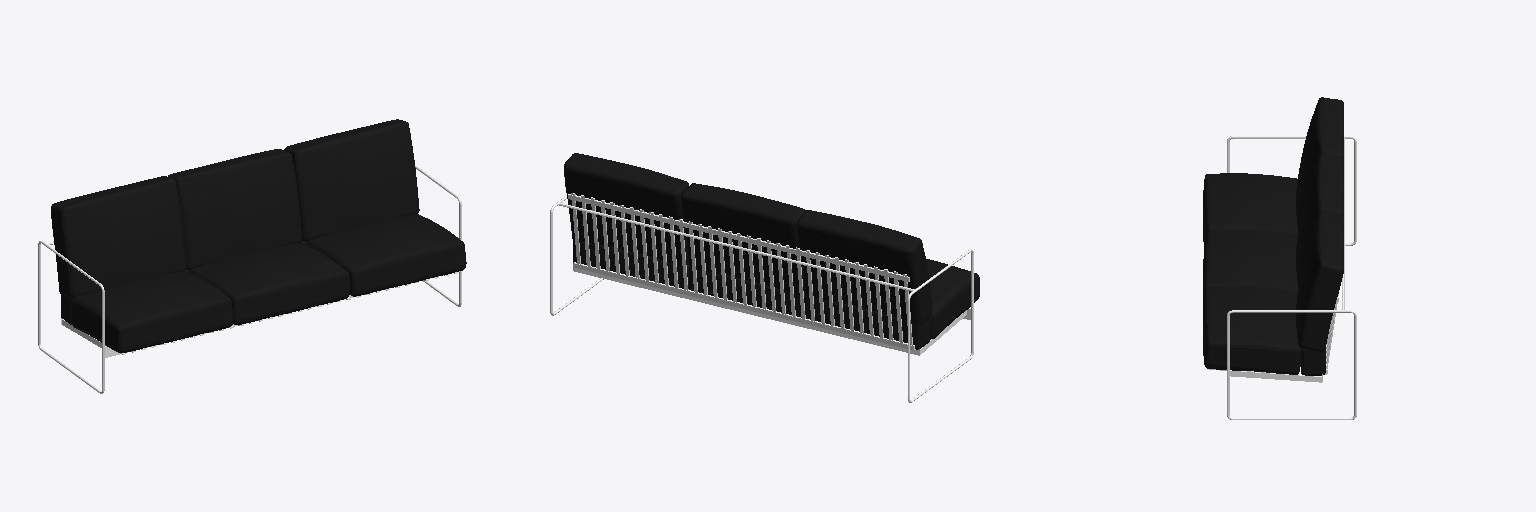
Rendered from bench.obj.
The picture shows the model from 3 angles: view 1: azimuth 30°, elevation 25°; view 2: azimuth 150°, elevation 25°; view 3: azimuth 270°, elevation 25°; orthographic projection.
Visible parts, largest first — view 1: ChamferBo0, ChamferBo5, ChamferBo2, ChamferBo3, ChamferBo7, ChamferBo4, Loft02_Loft01; view 2: ChamferBo0, ChamferBo5, ChamferBo2, ChamferBo3, ChamferBo1, Box40_Box41, Box40, ChamferBo6, ChamferBox, Box02, Cylinder01, Loft02_Loft01 (+1 smaller); view 3: ChamferBo7, ChamferBo3, ChamferBo4, ChamferBo5, ChamferBo2, ChamferBo0, Loft02, Loft02_Loft01, ChamferBo6, Box03_Box04.
Boxes of the visible parts, x1,y1,x2,y2 form: ChamferBo0: [51, 176, 186, 298]; ChamferBo5: [284, 119, 419, 241]; ChamferBo2: [168, 149, 302, 269]; ChamferBo3: [72, 271, 233, 352]; ChamferBo7: [305, 214, 466, 296]; ChamferBo4: [189, 243, 349, 324]; Loft02_Loft01: [38, 241, 104, 393]; ChamferBo0: [797, 210, 932, 324]; ChamferBo5: [564, 153, 688, 266]; ChamferBo2: [681, 183, 805, 294]; ChamferBo3: [926, 259, 979, 339]; ChamferBo1: [804, 294, 929, 349]; Box40_Box41: [573, 262, 915, 350]; Box40: [568, 194, 909, 281]; ChamferBo6: [573, 240, 688, 288]; ChamferBox: [689, 266, 804, 317]; Box02: [574, 268, 919, 355]; Cylinder01: [558, 203, 914, 291]; Loft02_Loft01: [908, 249, 973, 402]; ChamferBo7: [1203, 287, 1300, 374]; ChamferBo3: [1203, 173, 1297, 248]; ChamferBo4: [1203, 230, 1297, 303]; ChamferBo5: [1296, 211, 1343, 351]; ChamferBo2: [1296, 152, 1343, 286]; ChamferBo0: [1296, 97, 1343, 229]; Loft02: [1227, 310, 1356, 419]; Loft02_Loft01: [1227, 136, 1356, 245]; ChamferBo6: [1301, 348, 1325, 375]; Box03_Box04: [1230, 370, 1322, 382].
Size of the model in its own units: 944 by 387 by 350.